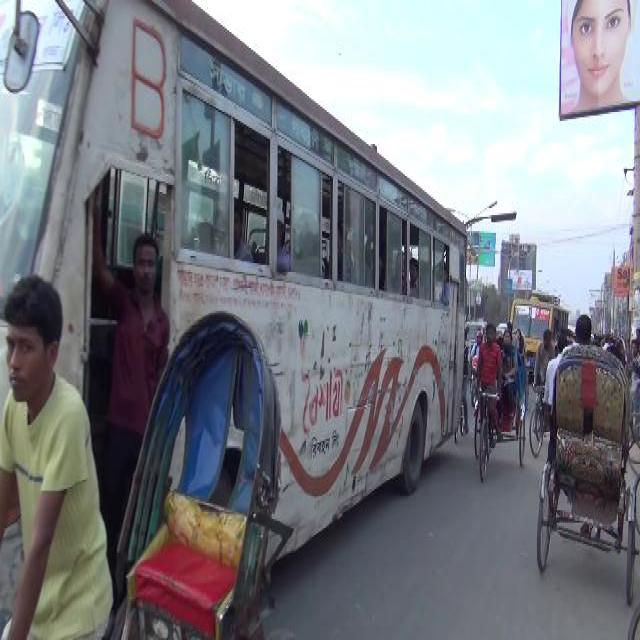bus: (284, 42, 473, 572), (0, 0, 314, 276), (508, 296, 570, 330)
rickshaw: (0, 270, 310, 633), (533, 306, 639, 608), (470, 319, 528, 488)
